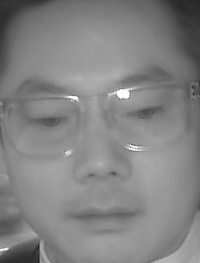eye: (125, 104, 164, 123), (30, 112, 68, 131)
glass: (101, 76, 187, 154), (2, 95, 82, 158)
mouth: (59, 196, 137, 234)
